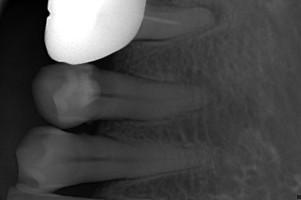Furcation Involvement: (198, 0, 222, 24)
